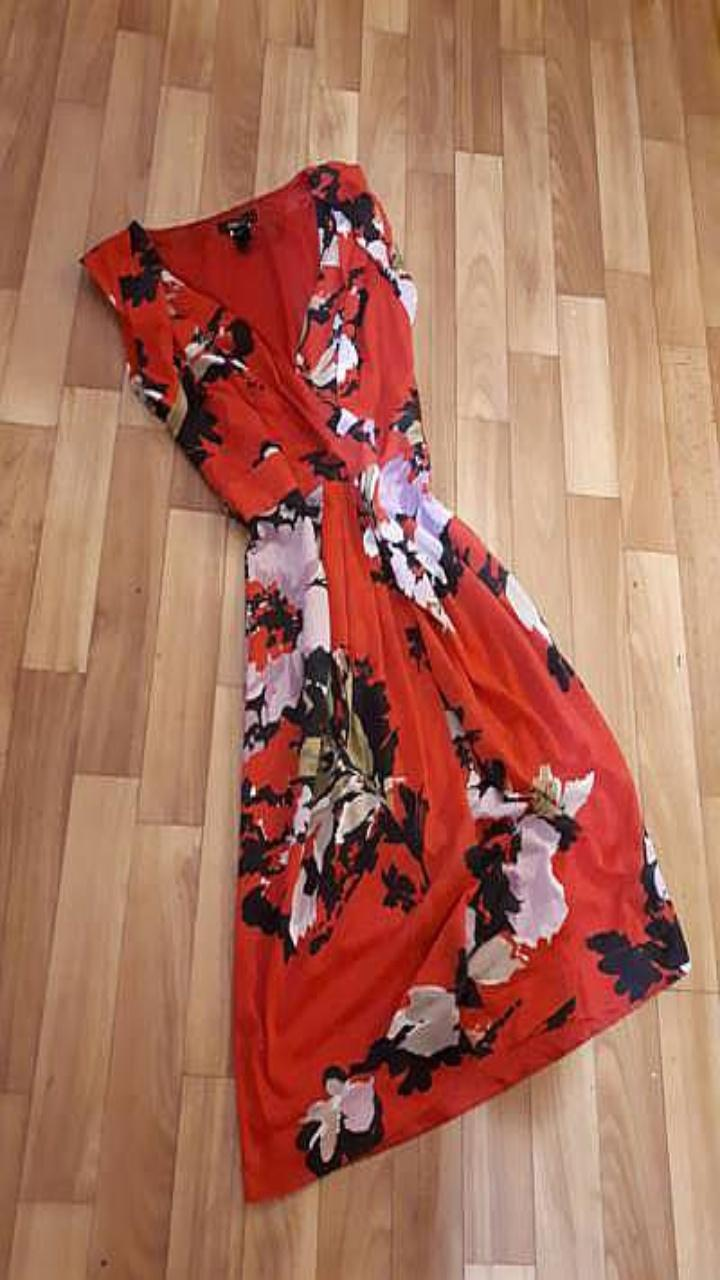Dresses: (81, 161, 688, 1199)
